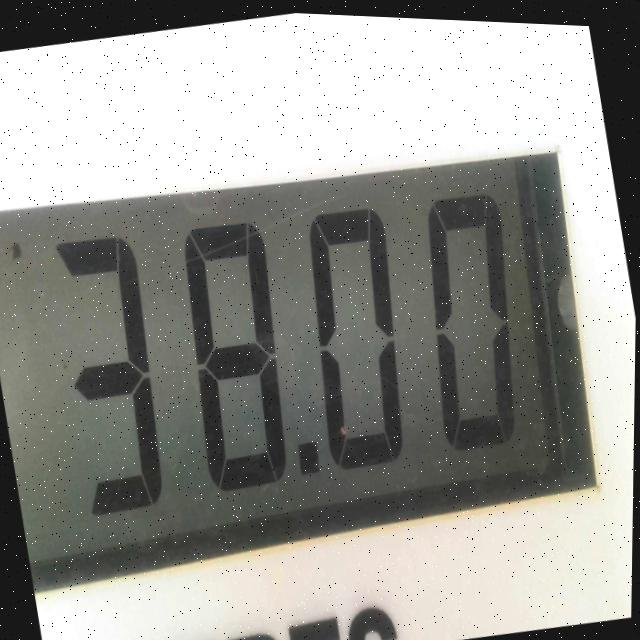.: (286, 407, 340, 497)
0: (290, 196, 431, 489), (402, 190, 541, 462)
3: (44, 219, 183, 520)
8: (167, 210, 301, 487)
